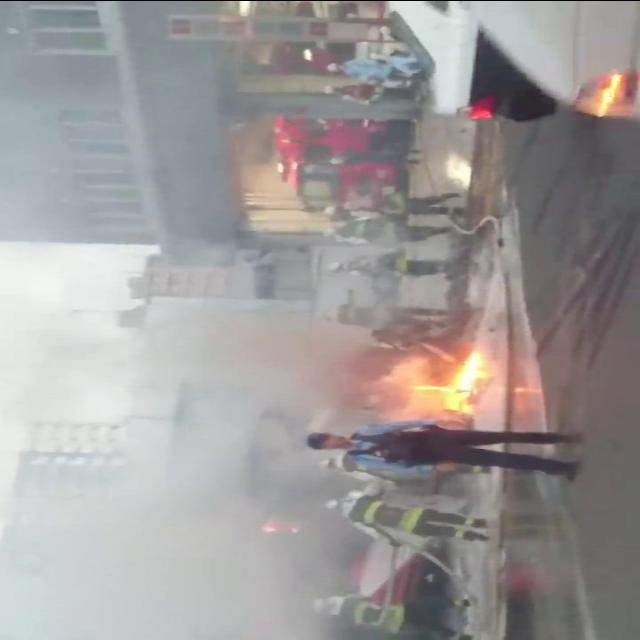Fire: (409, 349, 481, 411)
